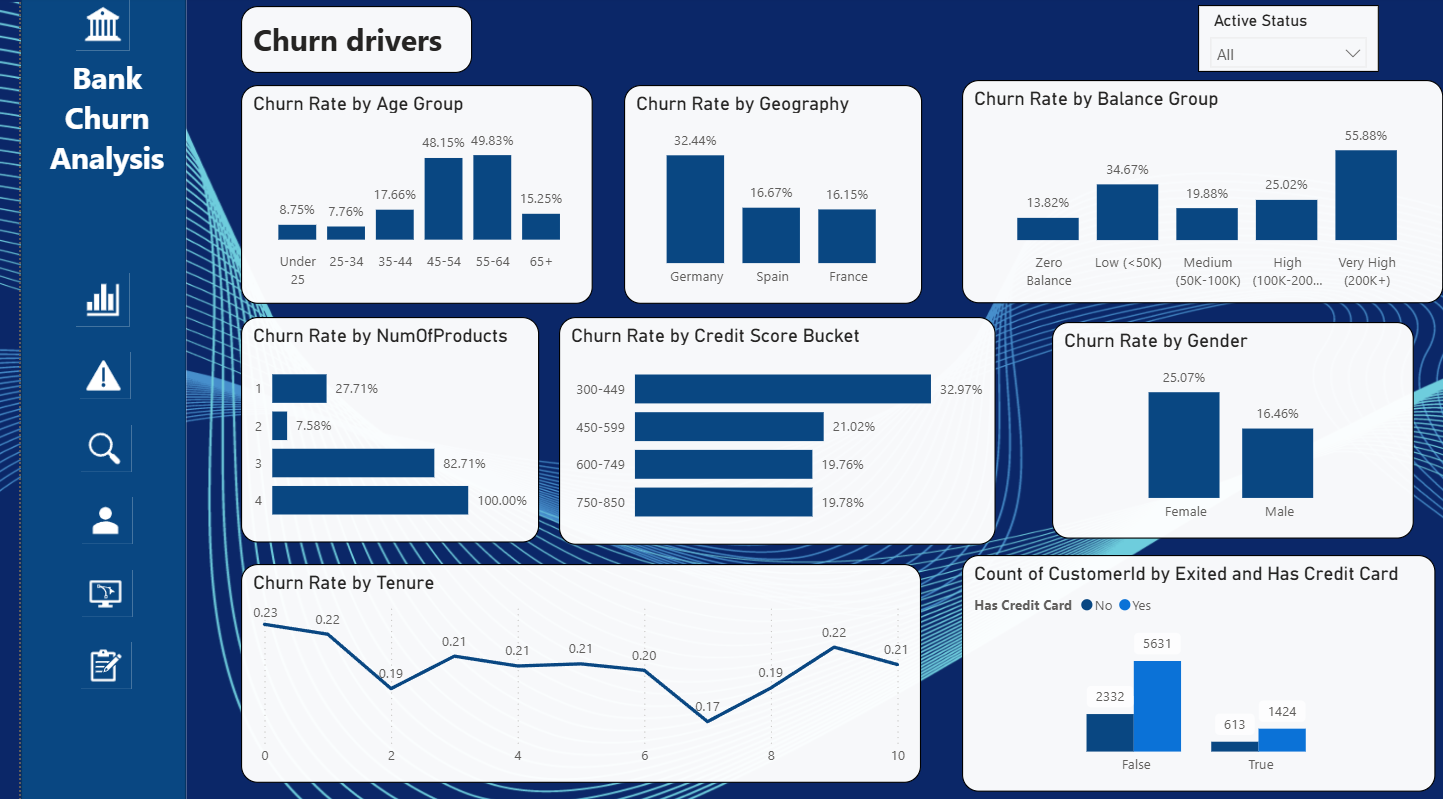

What the dashboard file says about the page in this screenshot:
{"tool":"powerbi","page":{"name":"🚨Churn drivers","canvas":[1280,720],"ordinal":1},"visuals":[{"type":"textbox","box":[197.4,7.8,207.2,60.3],"z":0},{"type":"clusteredColumnChart","fields":{"Category":["rfm_master_table.Age Group"],"Y":["Bank_Churn.Churn Rate"]},"box":[197.4,78.8,315.1,195.5],"z":1000},{"type":"columnChart","fields":{"Category":["rfm_master_table.Balance Group"],"Y":["Bank_Churn.Churn Rate"]},"box":[842.3,73.9,430.9,200.4],"z":2000},{"type":"barChart","fields":{"Category":["rfm_master_table.NumOfProducts"],"Y":["Bank_Churn.Churn Rate"]},"box":[197.4,286.9,267.5,202.3],"z":3000},{"type":"barChart","fields":{"Category":["rfm_master_table.Credit Score Bucket"],"Y":["Bank_Churn.Churn Rate"]},"box":[481.5,286.9,391,204.3],"z":4000},{"type":"columnChart","fields":{"Category":["rfm_master_table.Gender"],"Y":["Bank_Churn.Churn Rate"]},"box":[923,290.8,323.9,193.6],"z":5000},{"type":"lineChart","fields":{"Category":["rfm_master_table.Tenure"],"Y":["Bank_Churn.Churn Rate"]},"box":[197.4,507.7,608.9,195.5],"z":6000},{"type":"shape","box":[0,0,147.8,720.9],"z":7000},{"type":"clusteredColumnChart","fields":{"Category":["Bank_Churn.Geography"],"Y":["Bank_Churn.Churn Rate"]},"box":[539.8,78.8,266.5,195.5],"z":8000},{"type":"lineClusteredColumnComboChart","fields":{"Category":["rfm_master_table_1.Exited"],"Series":["rfm_master_table_1.Has Credit Card Status"],"Y":["CountNonNull(rfm_master_table_1.CustomerId)"]},"box":[842.3,499.9,424.1,212],"z":9000},{"type":"slicer","fields":{"Values":["rfm_master_table_1.IsActive Status"]},"box":[1054.3,6.8,162.4,60.3],"z":10000},{"type":"actionButton","box":[49.3,247.2,48.4,48.4],"z":11000},{"type":"actionButton","box":[53.9,383.1,44.8,42.1],"z":12000},{"type":"actionButton","box":[54.3,512.8,44.8,42.1],"z":13000},{"type":"actionButton","box":[53.2,318.3,44.8,42.1],"z":14000},{"type":"actionButton","box":[54.6,447.9,44.8,42.1],"z":15000},{"type":"actionButton","box":[53.6,577.6,44.8,42.1],"z":16000},{"type":"textbox","box":[7.2,48.4,139.7,128.1],"z":17000},{"type":"actionButton","box":[49.3,0,48.4,48.4],"z":18000}]}

Visuals, with their boxes on the page's 1280x720 design canvas (x1, y1, x2, y2). These are canvas units, not pixel positions in the 1443x799 screenshot, which may show the page scaled, cropped or inside an application window:
textbox: {"left": 197, "top": 8, "right": 405, "bottom": 68}
clusteredColumnChart - rfm_master_table.Age Group x Bank_Churn.Churn Rate: {"left": 197, "top": 79, "right": 512, "bottom": 274}
columnChart - rfm_master_table.Balance Group x Bank_Churn.Churn Rate: {"left": 842, "top": 74, "right": 1273, "bottom": 274}
barChart - rfm_master_table.NumOfProducts x Bank_Churn.Churn Rate: {"left": 197, "top": 287, "right": 465, "bottom": 489}
barChart - rfm_master_table.Credit Score Bucket x Bank_Churn.Churn Rate: {"left": 482, "top": 287, "right": 872, "bottom": 491}
columnChart - rfm_master_table.Gender x Bank_Churn.Churn Rate: {"left": 923, "top": 291, "right": 1247, "bottom": 484}
lineChart - rfm_master_table.Tenure x Bank_Churn.Churn Rate: {"left": 197, "top": 508, "right": 806, "bottom": 703}
shape: {"left": 0, "top": 0, "right": 148, "bottom": 721}
clusteredColumnChart - Bank_Churn.Geography x Bank_Churn.Churn Rate: {"left": 540, "top": 79, "right": 806, "bottom": 274}
lineClusteredColumnComboChart - rfm_master_table_1.Exited x rfm_master_table_1.Has Credit Card Status: {"left": 842, "top": 500, "right": 1266, "bottom": 712}
slicer - rfm_master_table_1.IsActive Status: {"left": 1054, "top": 7, "right": 1217, "bottom": 67}
actionButton: {"left": 49, "top": 247, "right": 98, "bottom": 296}
actionButton: {"left": 54, "top": 383, "right": 99, "bottom": 425}
actionButton: {"left": 54, "top": 513, "right": 99, "bottom": 555}
actionButton: {"left": 53, "top": 318, "right": 98, "bottom": 360}
actionButton: {"left": 55, "top": 448, "right": 99, "bottom": 490}
actionButton: {"left": 54, "top": 578, "right": 98, "bottom": 620}
textbox: {"left": 7, "top": 48, "right": 147, "bottom": 176}
actionButton: {"left": 49, "top": 0, "right": 98, "bottom": 48}
